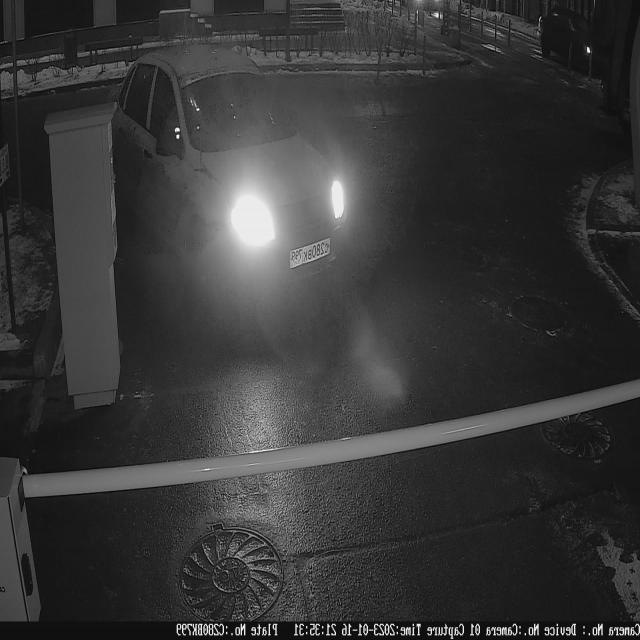car-plate-numbers: (287, 233, 334, 273)
